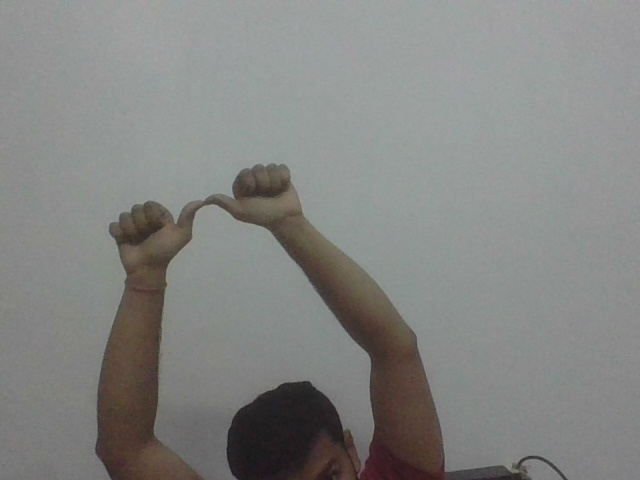A: (106, 161, 299, 272)
